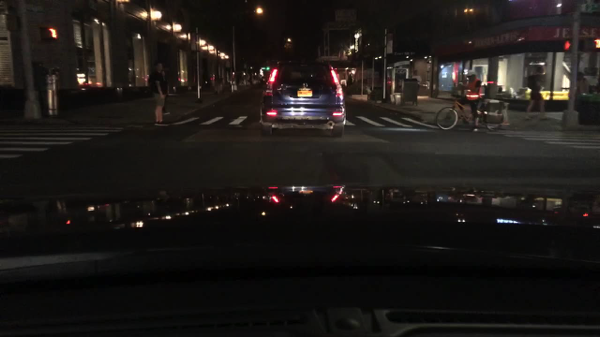bike: (436, 84, 506, 135)
car: (258, 58, 346, 137), (250, 65, 271, 87)
person: (522, 64, 549, 121), (148, 61, 168, 126), (561, 66, 592, 96), (33, 61, 48, 118), (162, 69, 169, 114), (344, 68, 354, 99), (411, 73, 420, 105), (234, 69, 243, 85)
rider: (459, 68, 482, 133)
traffic light: (561, 38, 572, 53), (48, 27, 59, 39), (594, 35, 599, 52), (264, 66, 271, 71)
traffic sign: (333, 9, 356, 22), (386, 33, 393, 55)
